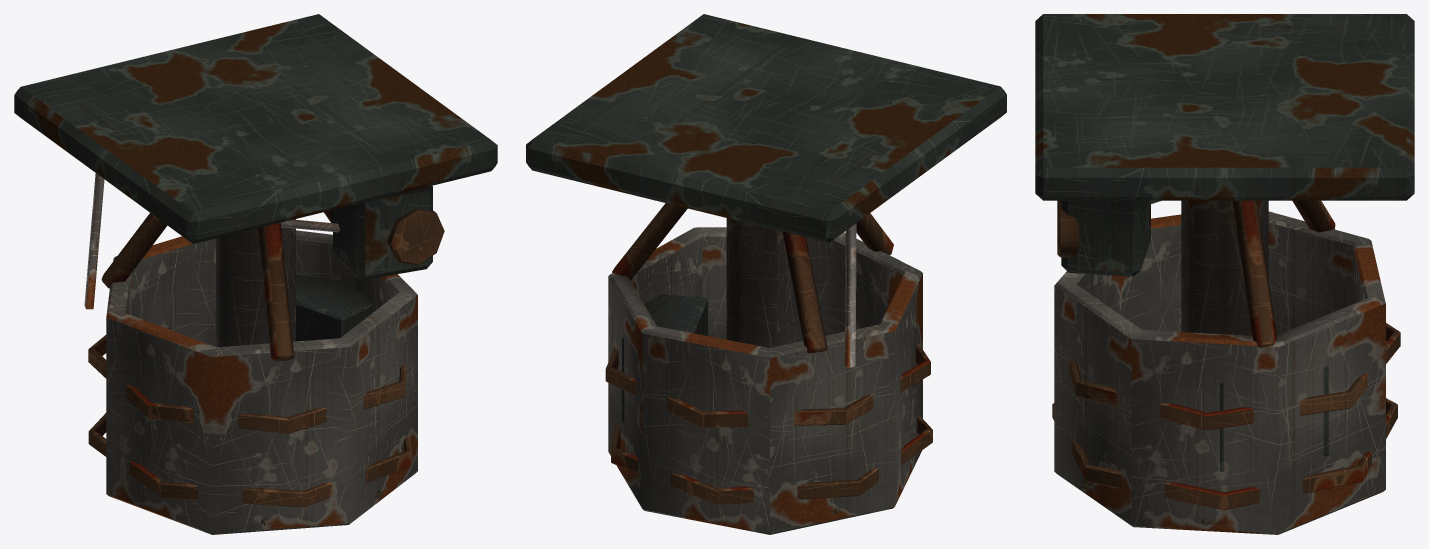
The model's file is R4M_HoverEngine_LOD1.glb.
The picture shows the model from 3 angles, left to right: view 1: azimuth 30°, elevation 25°; view 2: azimuth 150°, elevation 25°; view 3: azimuth 270°, elevation 25°; orthographic projection. The views are drawn at different scales.
Parts seen in each view (by area): view 1: R4M_HoverEngine_LOD1; view 2: R4M_HoverEngine_LOD1; view 3: R4M_HoverEngine_LOD1.
Boxes of the visible parts, box(x1,y1,x2,y2) form: R4M_HoverEngine_LOD1: box(14, 14, 497, 534); R4M_HoverEngine_LOD1: box(526, 14, 1006, 534); R4M_HoverEngine_LOD1: box(1035, 14, 1414, 534).
Bounding box in the file's own units: 0.52 × 0.57 × 0.52.
5 materials, 5 textured.
